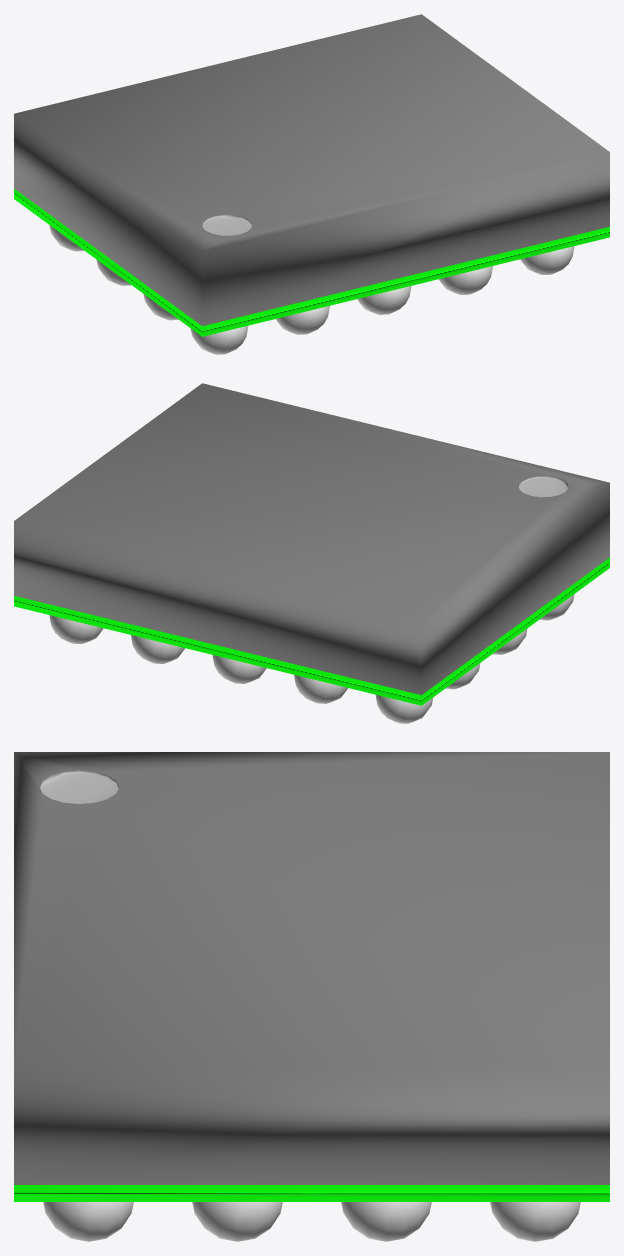
3 views of the same model, one above another, from view 1: azimuth 30°, elevation 25°; view 2: azimuth 150°, elevation 25°; view 3: azimuth 270°, elevation 25° (orthographic). The views are drawn at different scales.
Parts seen in each view (by area): view 1: =>[0:1:1:3]; view 2: =>[0:1:1:3]; view 3: =>[0:1:1:3].
Part boxes in pixels (x1,y1,x2,y2): =>[0:1:1:3]: [14, 14, 609, 354]; =>[0:1:1:3]: [14, 383, 609, 723]; =>[0:1:1:3]: [14, 752, 609, 1241].
Bounding box in the file's own units: 0.002 × 0.0006 × 0.0016.
